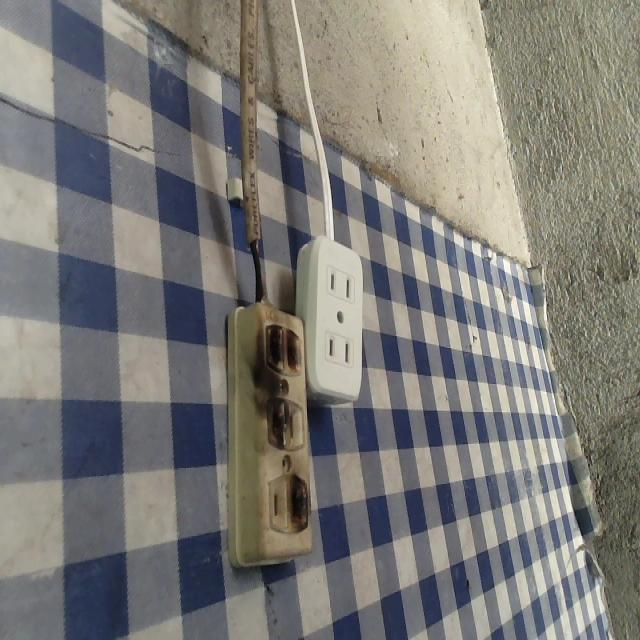-: (261, 316, 301, 379), (256, 392, 290, 456), (285, 468, 314, 533)
